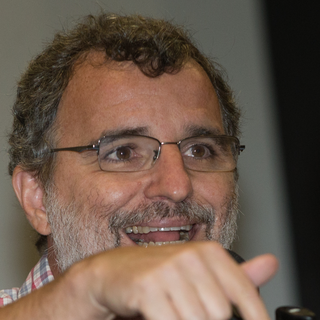eye: (179, 139, 222, 163), (99, 144, 144, 164)
